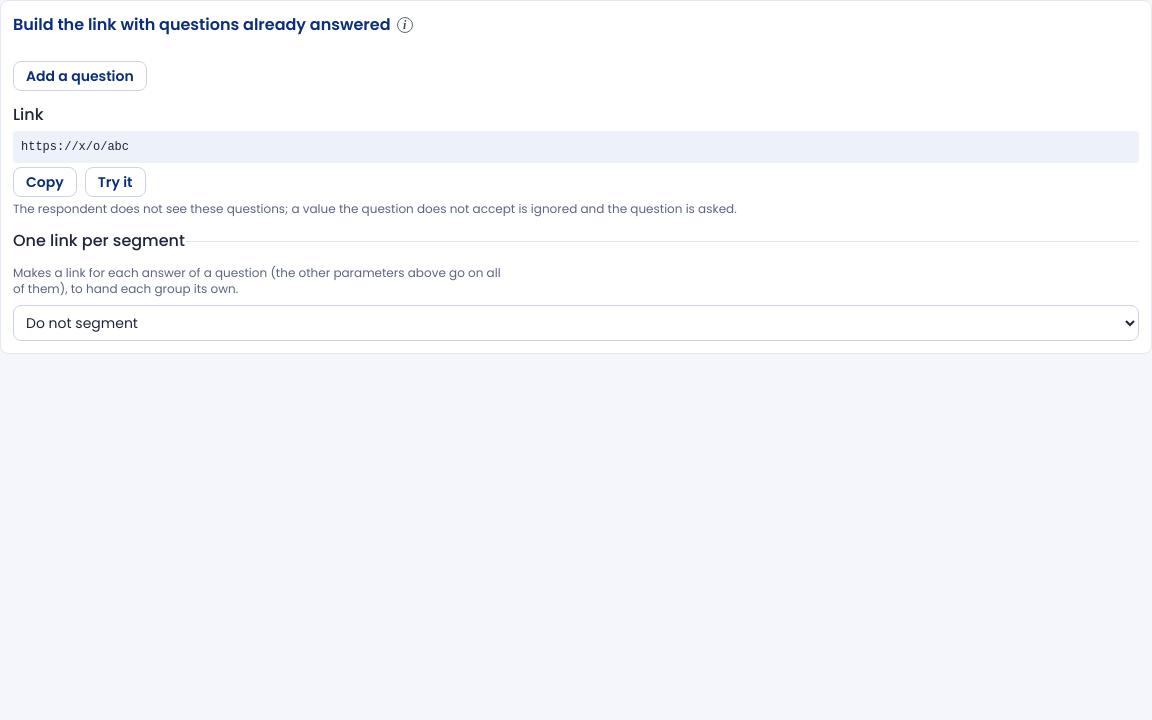
Test case: the link builder › makes a short link that keeps the answers on the server
The width and height of the screenshot is (1152, 720).
Click the button "Add a question": (80, 76) x1=13 y1=61 x2=147 y2=91
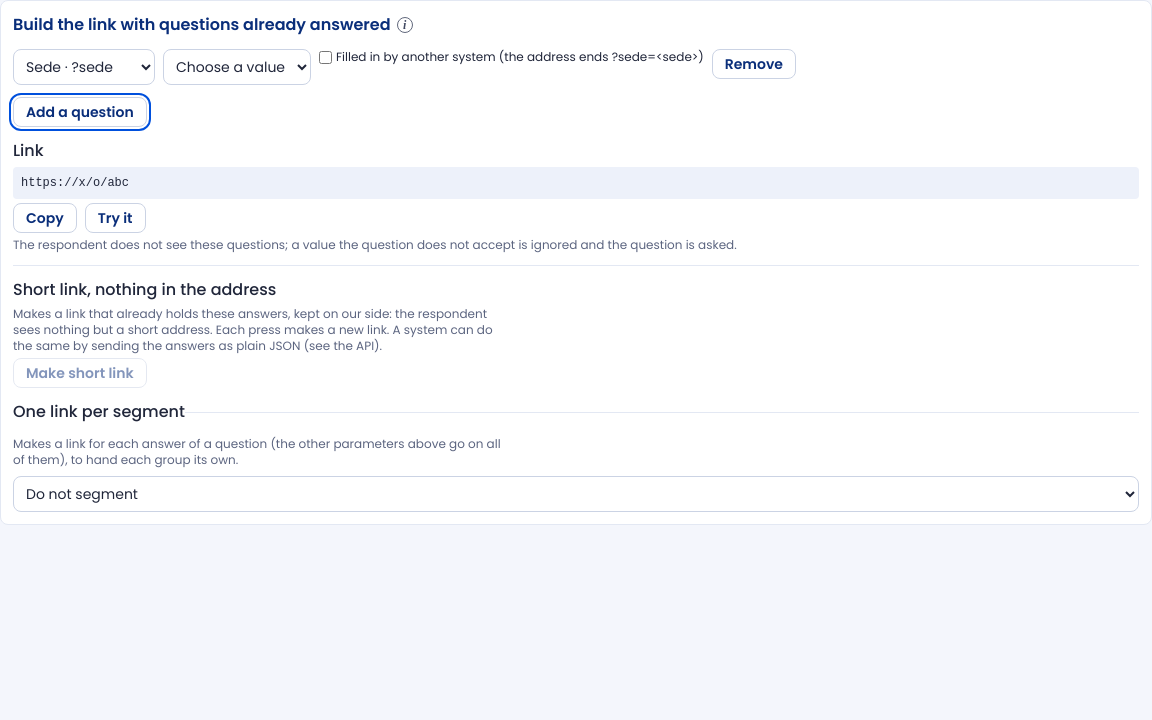
Select "Cusco (2)" in the dropdown named "Value of ?sede": (237, 67) x1=163 y1=49 x2=311 y2=85
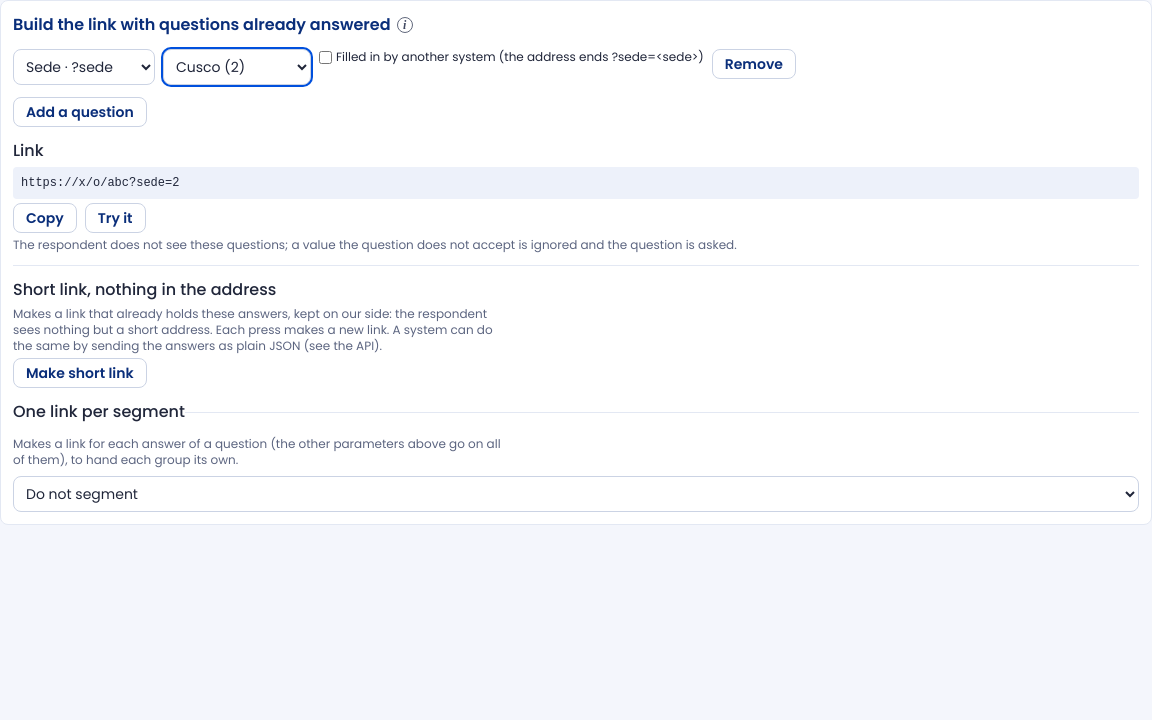
Click the button "Make short link": (80, 373) x1=13 y1=358 x2=147 y2=388
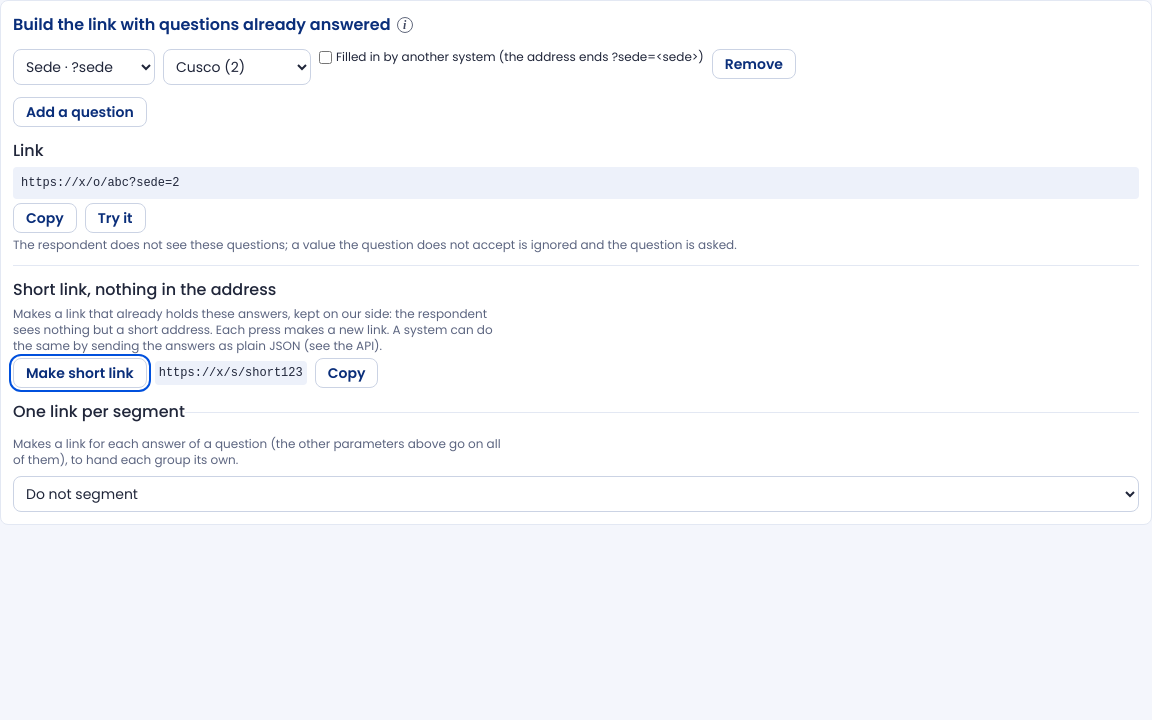
Result: the text with test id "short-url" reads "https://x/s/short123" at x1=159 y1=366 x2=303 y2=380
